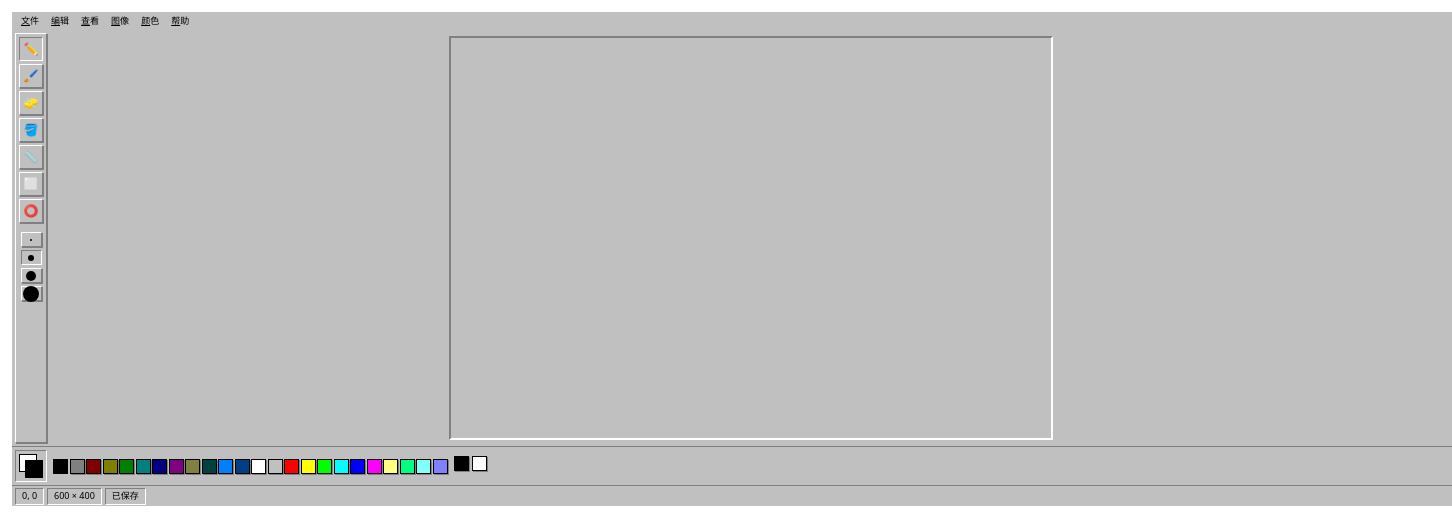
Test case: Paint Component › should mark as dirty when drawing
The image size is (1452, 523).
Press the mouse on the drawing at (751, 238), box left=451, top=38, right=1051, bottom=438
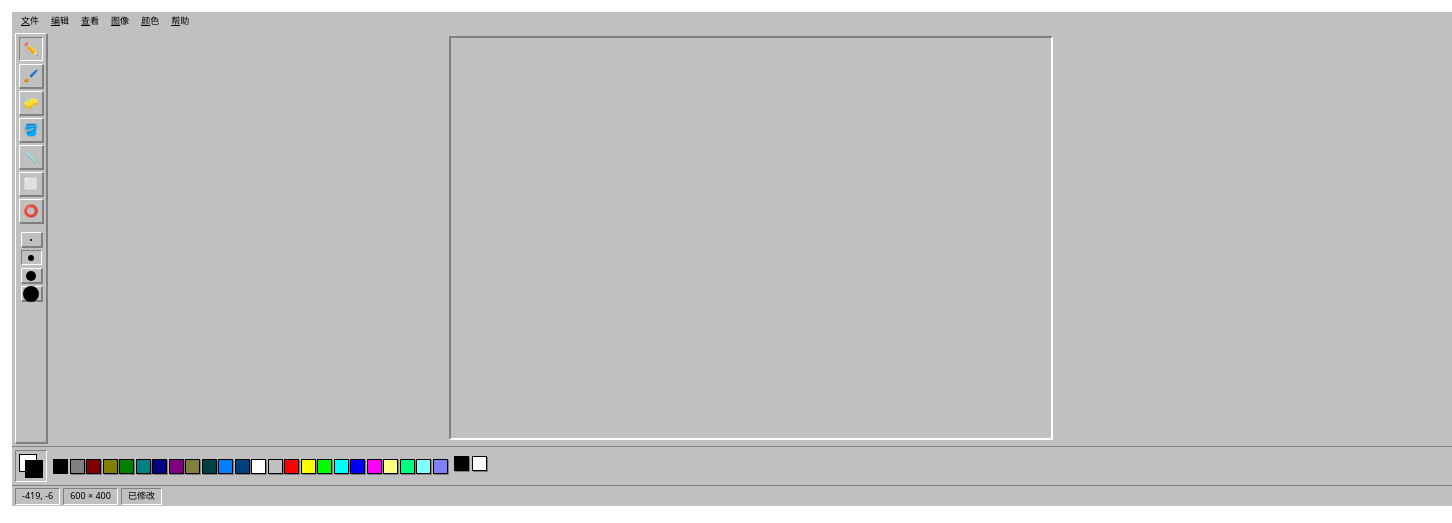
expect the text "已修改" is shown: met, box left=121, top=488, right=162, bottom=504
